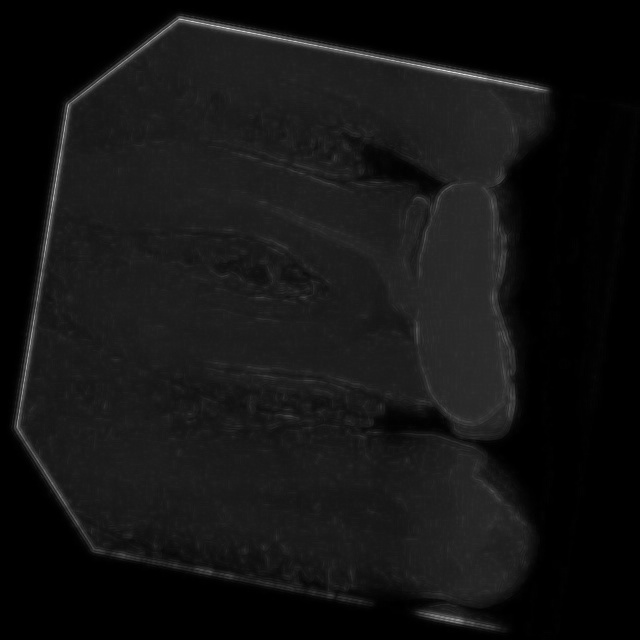Class 2- incomplete endodontic treatment: (25, 81, 554, 487)
